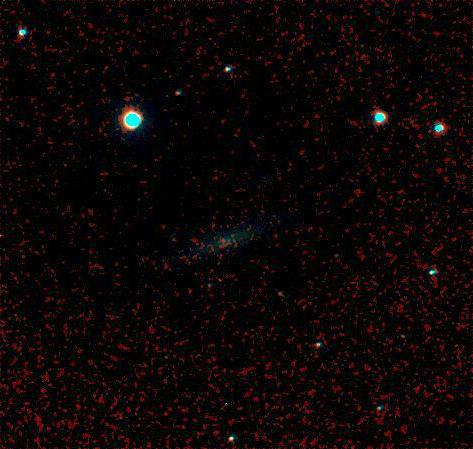star: (106, 404, 136, 434)
